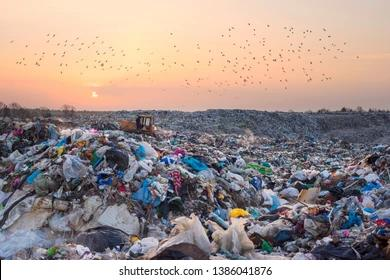garbage: (0, 104, 390, 280)
